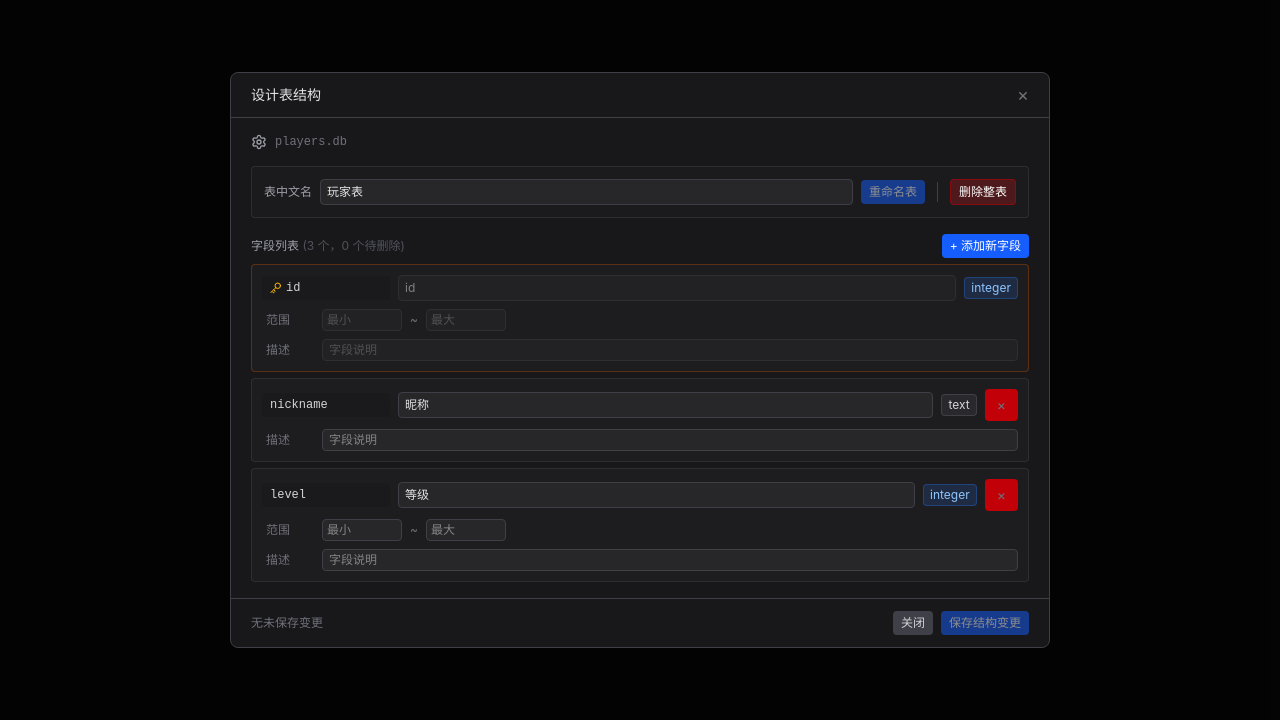
Scenario: TableDesignModal - 保存结构变更 › alterTable 异常时显示错误信息
Click the button titled "删除字段" next to "text" at (1001, 405), box [985,389,1018,421]
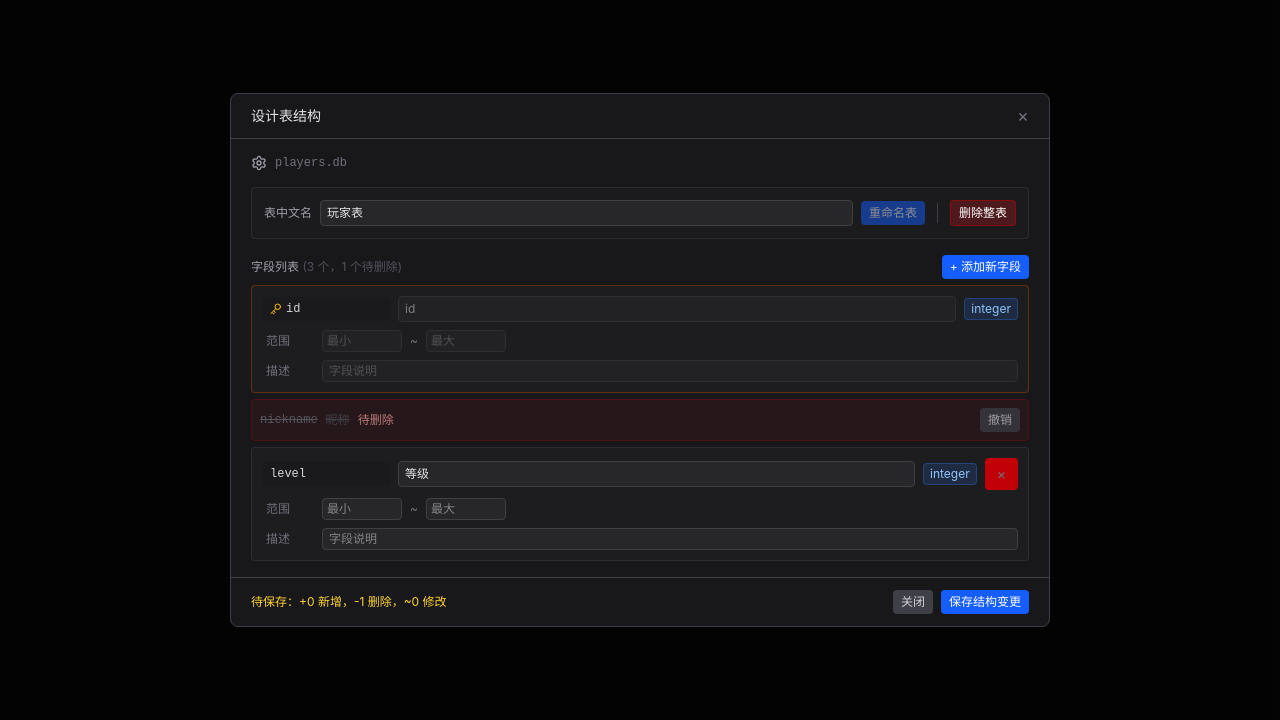
Click the button "保存结构变更" at (985, 602), box [941,590,1029,614]
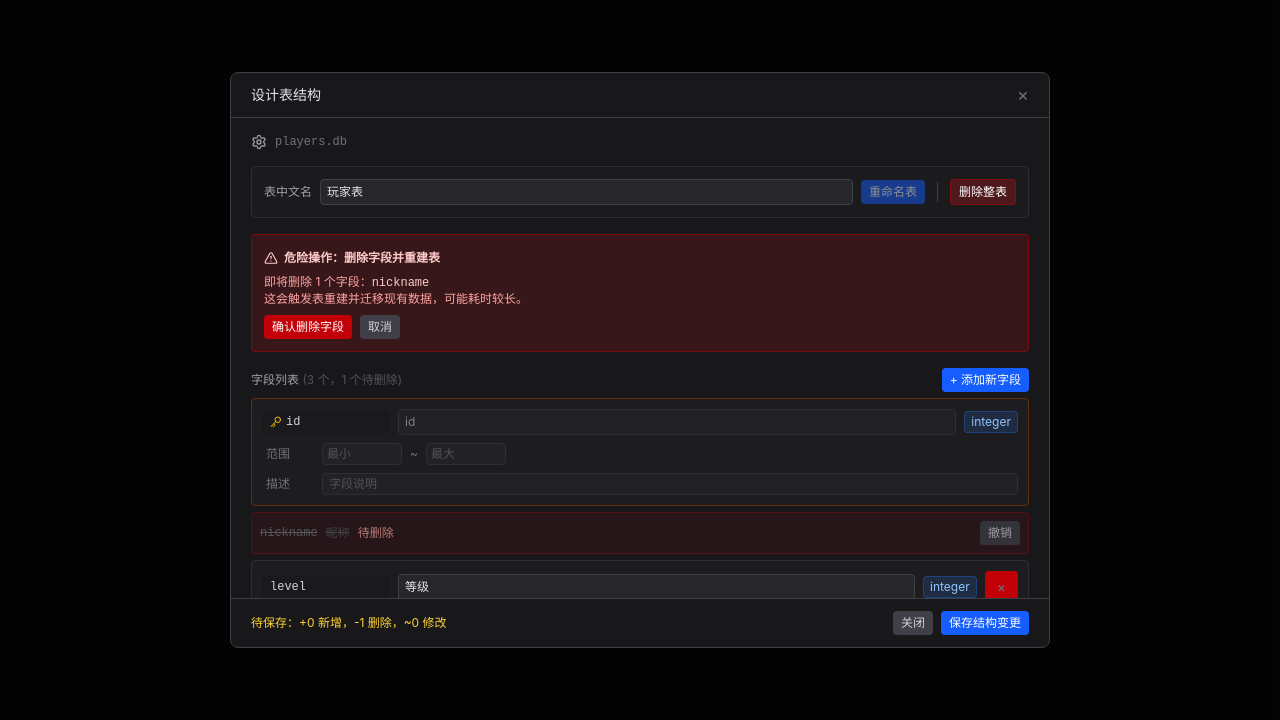
Expected: the button "确认删除字段" is shown
Click the button "确认删除字段" at (308, 327), box [264,315,352,339]
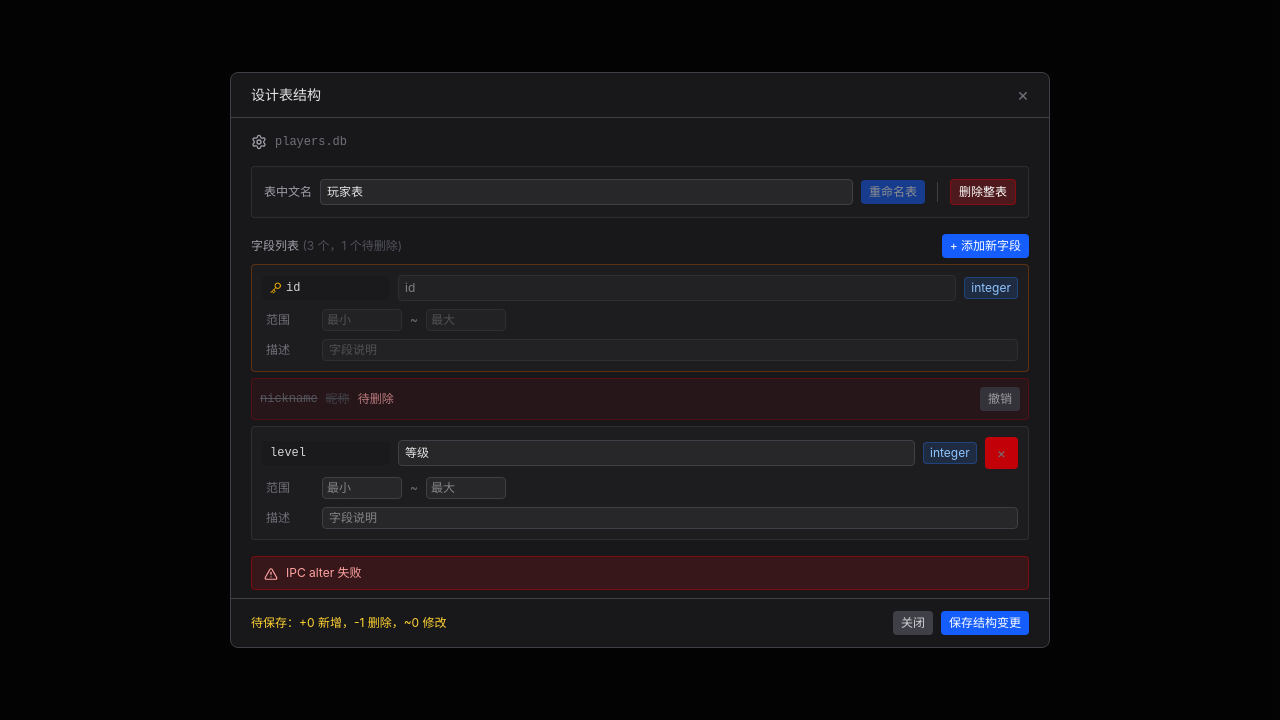
Expected: the text "IPC alter 失败" is shown, [286,565,362,581]
